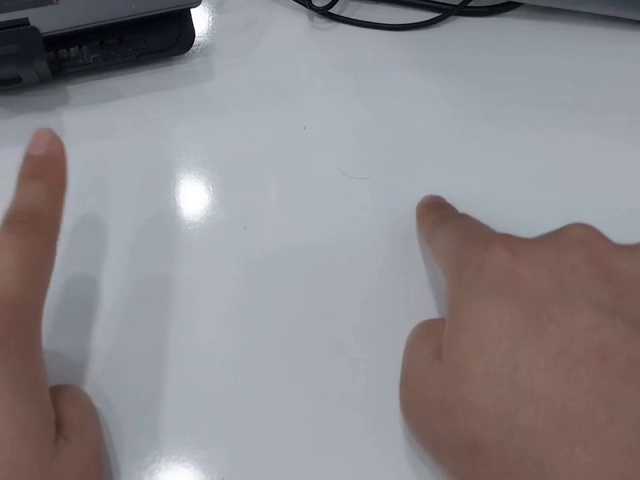fingers: (19, 125, 69, 180), (415, 193, 460, 239)
